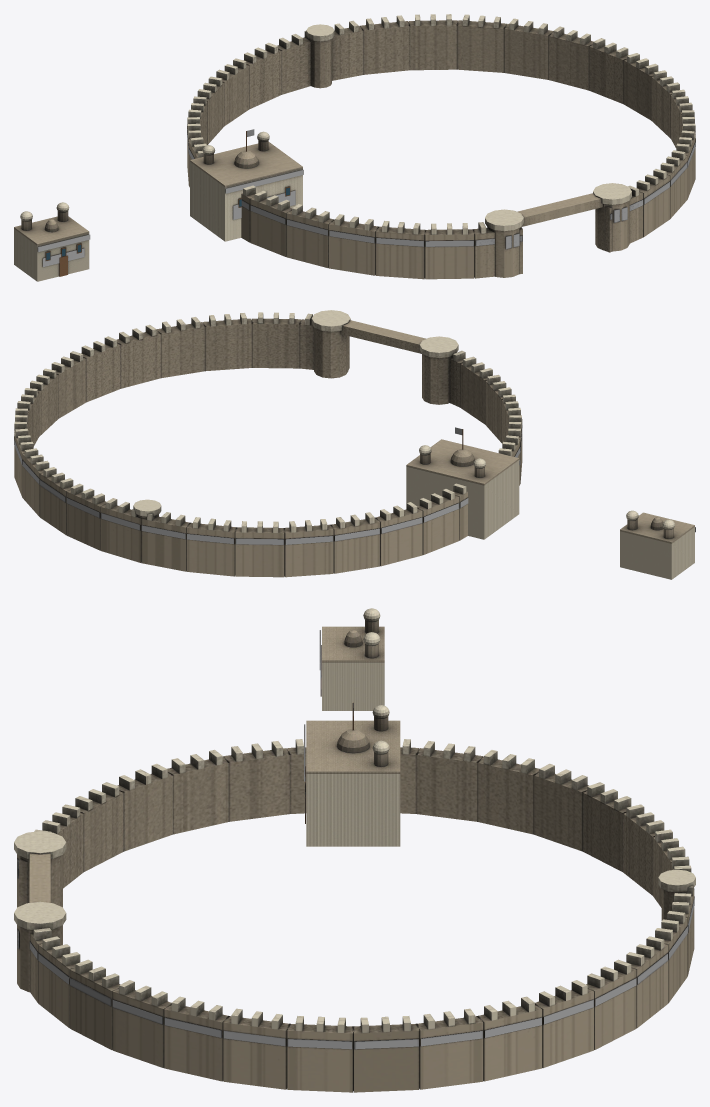
Rendered from shared-kingdoms-nile.glb.
3 renders of one model, top to bottom at view 1: azimuth 30°, elevation 25°; view 2: azimuth 150°, elevation 25°; view 3: azimuth 270°, elevation 25°, orthographic. The views are drawn at different scales.
Parts seen in each view (by area): view 1: LOD0.002, LOD0.001, LOD0; view 2: LOD0.002, LOD0.001, LOD0; view 3: LOD0.002, LOD0.001, LOD0.
Boxes of the visible parts, x1,y1,x2,y2 form: LOD0.002: (187, 14, 695, 279); LOD0.001: (190, 129, 303, 241); LOD0: (14, 202, 90, 281); LOD0.002: (14, 310, 522, 577); LOD0.001: (406, 427, 520, 539); LOD0: (620, 510, 695, 579); LOD0.002: (14, 739, 695, 1092); LOD0.001: (304, 702, 400, 846); LOD0: (319, 608, 384, 710).
Size of what is drawn, in the model's own units: 9.8 by 1.3 by 6.79.
Materials: 2 (2 with a texture image).
